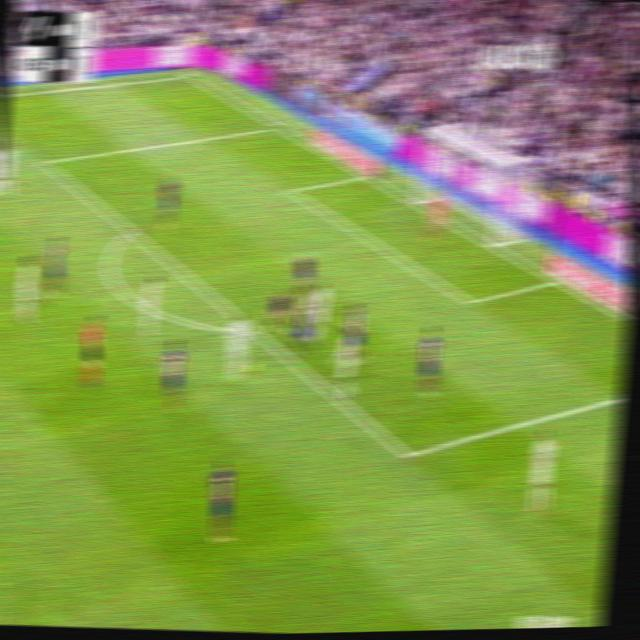bigarea_bottom_inner: (397, 439, 418, 470)
bigarea_top_inner: (36, 149, 54, 171)
bigarea_top_outter: (269, 117, 287, 133)
corner: (180, 68, 200, 83)
smallarea_bottom_inner: (461, 290, 479, 314)
smallarea_top_inner: (282, 179, 301, 201)
top_arc_area_intersection: (123, 220, 141, 240)
